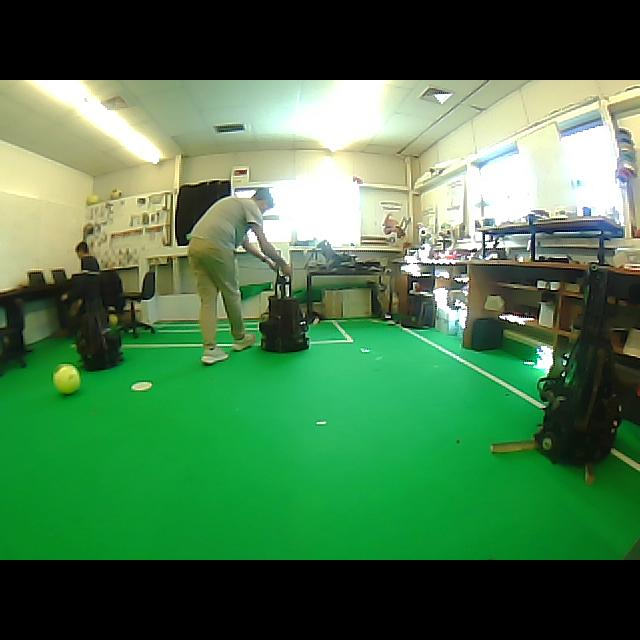ball: (53, 364, 80, 394), (86, 194, 100, 204), (110, 189, 121, 199), (109, 314, 118, 326)
robot: (535, 266, 621, 464), (78, 311, 124, 371), (260, 297, 308, 352)
